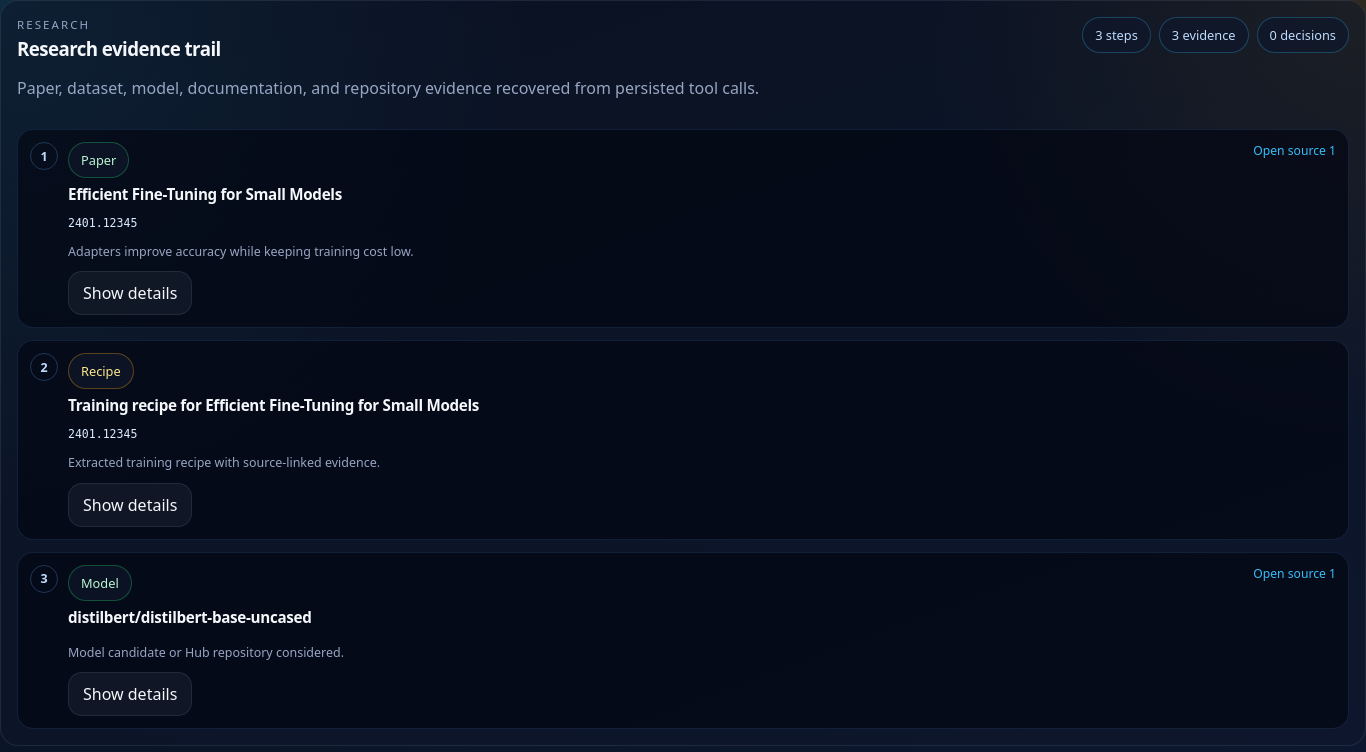
ResearchTrailPanel › renders an expandable evidence-backed research timeline
Expected: the heading "Research evidence trail" is shown, [17,36,221,61]
Expected: the text "3 steps" is shown, [1082,17,1151,53]
Click the button named "Show details for Training recipe for Efficient Fine-Tuning for Small Models" at (130, 505), box [68,483,192,527]
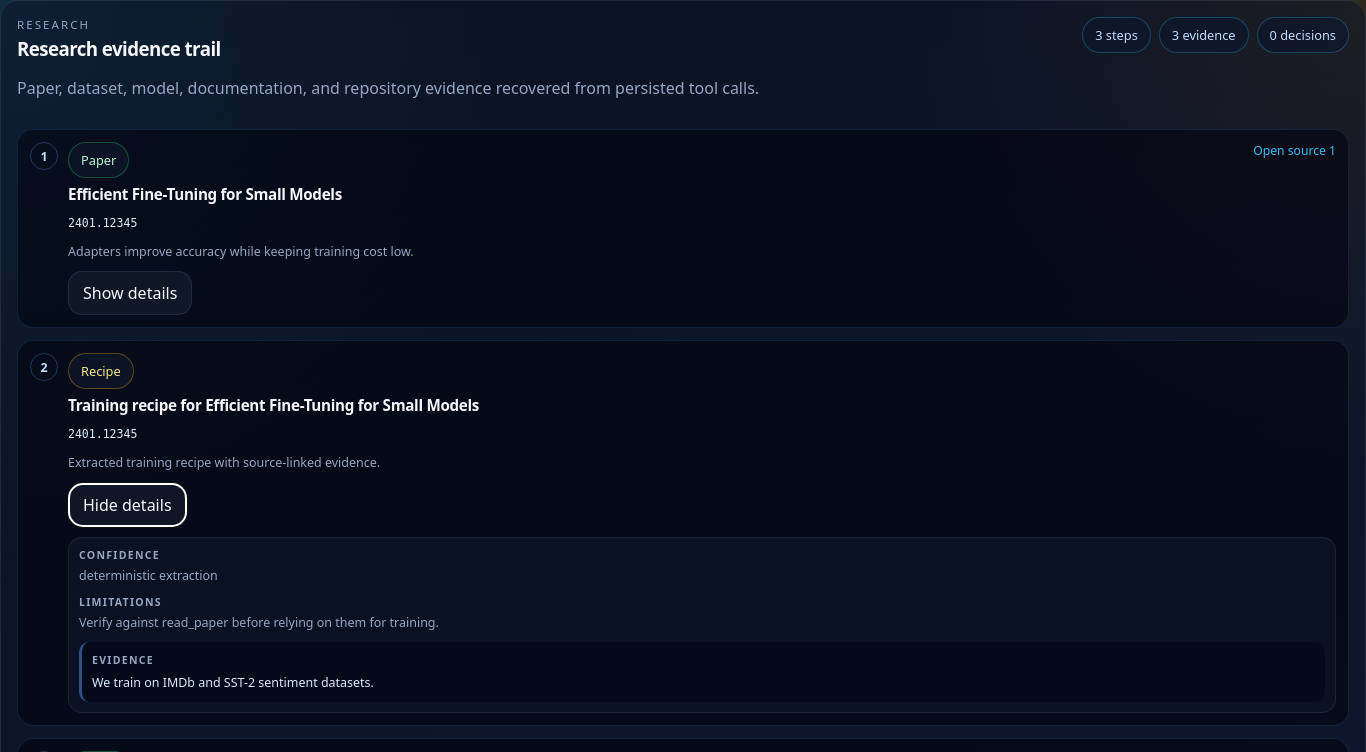
Now the text "Evidence We train on IMDb and SST-2 sentiment datasets." is shown, box [79,642,1325,702]
Now the text "deterministic extraction" is shown, box [79,567,218,584]
Now the text "Verify against read_paper" is shown, box [79,614,439,631]
